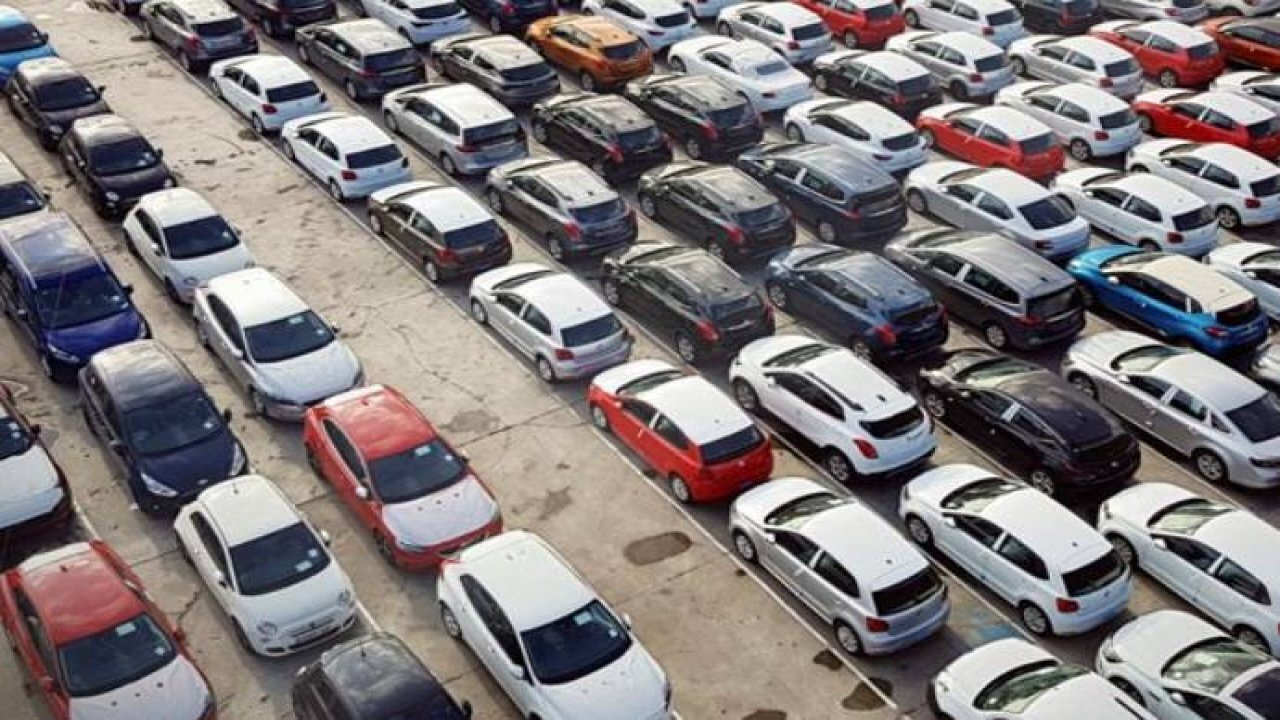Car: (435, 529, 675, 720), (898, 464, 1131, 636), (729, 477, 950, 656), (0, 540, 218, 720), (301, 383, 502, 576), (1059, 328, 1280, 489), (915, 346, 1141, 498), (173, 473, 358, 658), (1095, 479, 1280, 662), (728, 334, 937, 483), (78, 339, 250, 515), (192, 266, 366, 423), (587, 358, 774, 503), (0, 209, 151, 382), (883, 226, 1085, 350), (1064, 244, 1270, 356), (762, 244, 949, 364), (599, 240, 776, 363), (1095, 609, 1280, 720), (468, 262, 633, 383), (904, 160, 1091, 262), (929, 638, 1156, 720), (735, 141, 908, 246), (636, 161, 796, 266), (290, 629, 473, 720), (483, 157, 638, 262), (119, 187, 255, 306), (1048, 167, 1219, 257), (366, 180, 513, 283), (1123, 137, 1280, 232), (0, 382, 78, 568), (381, 83, 528, 177), (59, 113, 177, 225), (530, 92, 673, 184), (916, 102, 1065, 183), (667, 35, 815, 116), (623, 74, 764, 159), (781, 97, 928, 178), (281, 112, 412, 202), (1131, 88, 1280, 167), (995, 81, 1142, 161), (294, 17, 426, 100), (429, 31, 561, 112), (4, 57, 115, 151), (524, 15, 655, 91), (1086, 19, 1225, 88), (209, 54, 328, 134), (885, 31, 1015, 100), (1008, 35, 1144, 100), (813, 50, 942, 118), (138, 0, 259, 72), (715, 1, 835, 65), (579, 0, 703, 59), (1201, 241, 1280, 325), (899, 0, 1025, 48), (350, 0, 473, 47), (789, 0, 906, 48), (0, 4, 59, 92), (1193, 16, 1280, 75), (226, 0, 338, 37), (0, 150, 53, 225), (459, 0, 560, 34), (1007, 0, 1105, 35), (1209, 70, 1280, 117), (1099, 0, 1208, 23), (1248, 340, 1280, 398), (1205, 0, 1280, 16), (675, 0, 739, 18), (109, 0, 147, 17)
